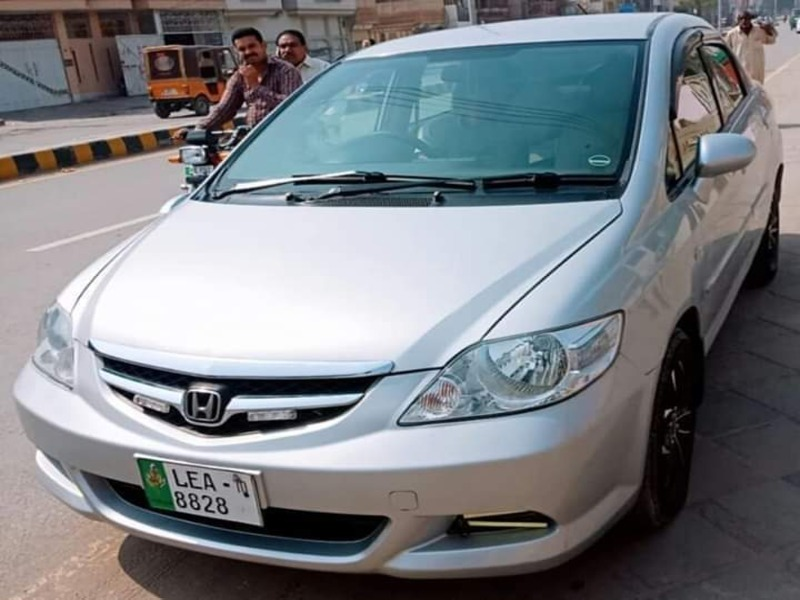License Plate: (133, 450, 269, 534)
